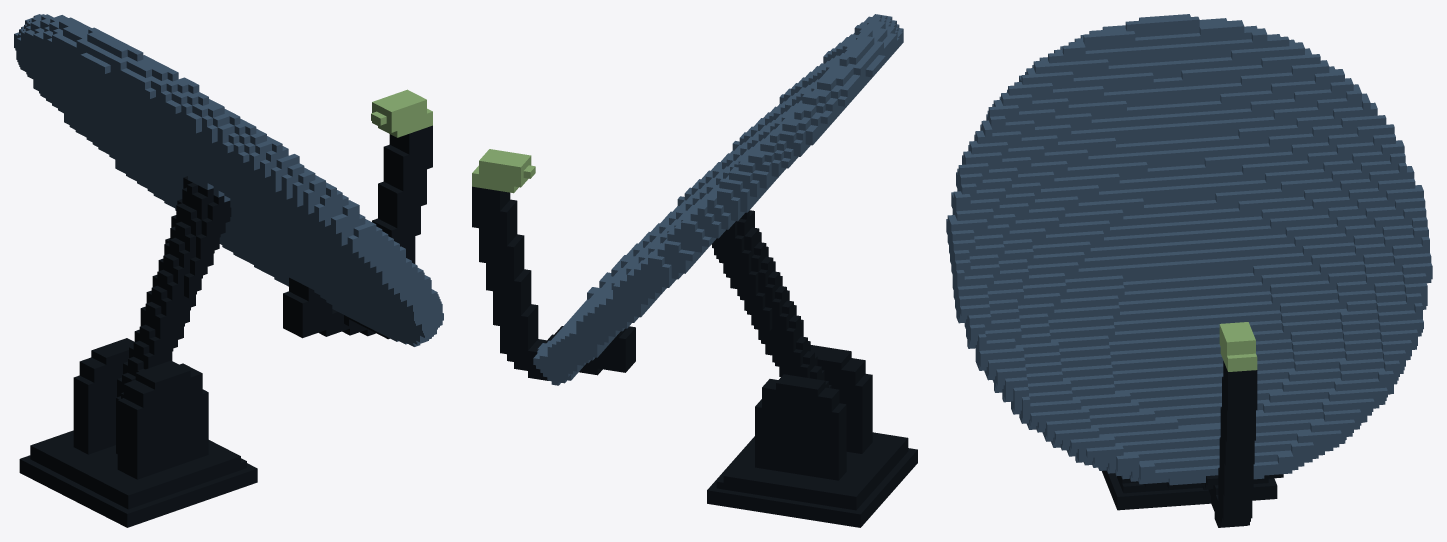
File: asig_señales.gltf
The picture shows the model from 3 angles, left to right: view 1: azimuth 30°, elevation 25°; view 2: azimuth 150°, elevation 25°; view 3: azimuth 270°, elevation 25°; orthographic projection. The views are drawn at different scales.
Parts seen in each view (by area): view 1: antena_001-1-Antena; view 2: antena_001-1-Antena; view 3: antena_001-1-Antena.
Part boxes in pixels (x1,y1,x2,y2): antena_001-1-Antena: (14,14,443,527); antena_001-1-Antena: (472,14,917,527); antena_001-1-Antena: (946,14,1432,527).
Size of the model in its own units: 6.03 by 6.5 by 6.59.
